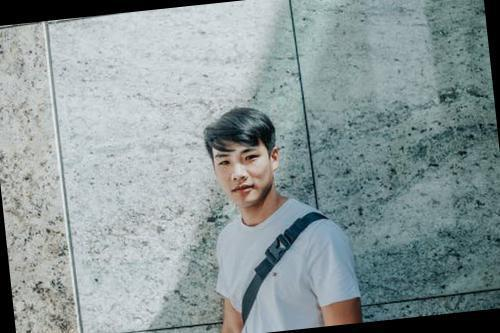Sober: (216, 137, 271, 198)
